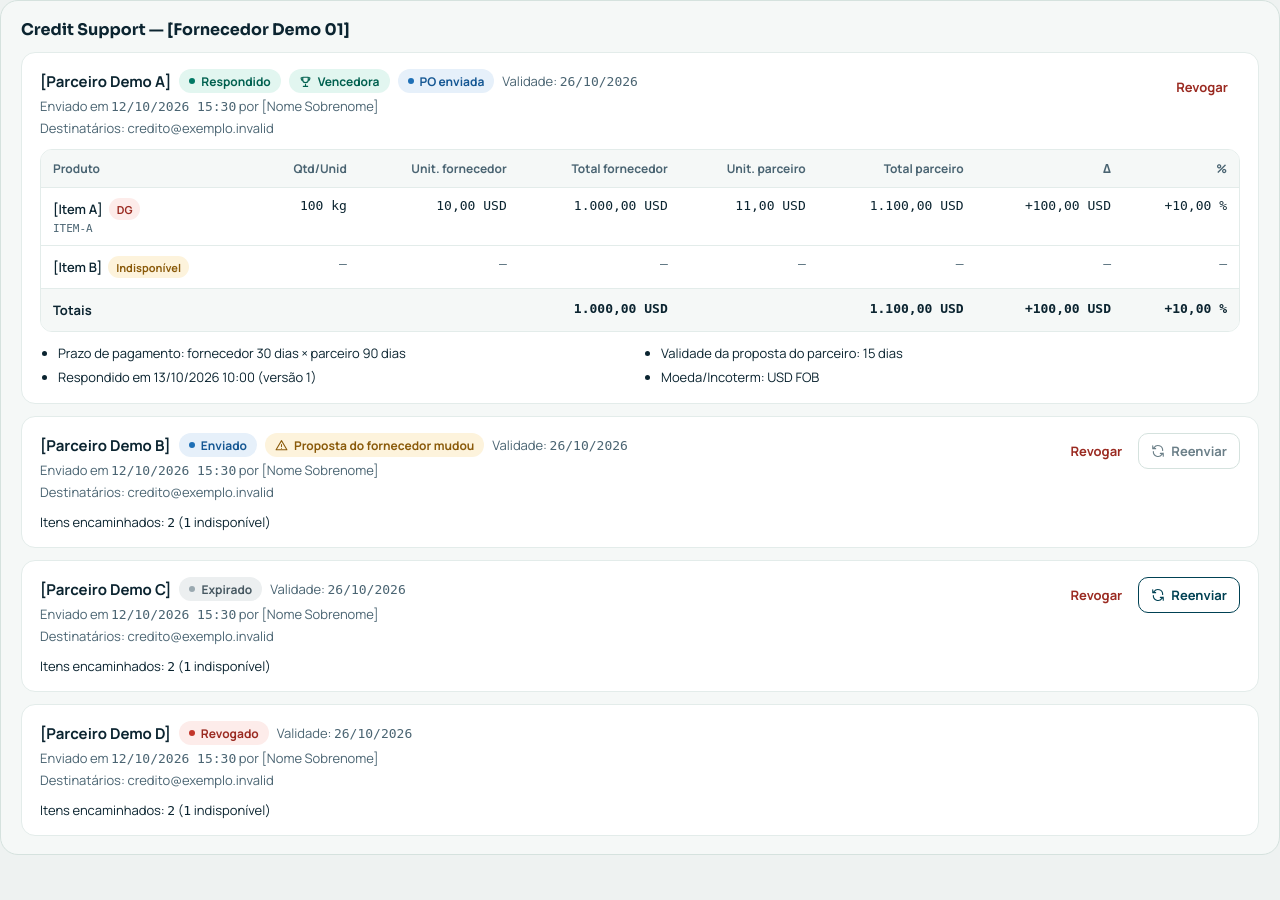
it: Credit Support: visual (Suite COMEX, F7) › painel › "Copiar link" (depois do Reenviar) tem icone; resultado em role=status; nenhum [style] no painel
expect the heading "Credit Support — [Fornecedor Demo 01]" is shown: met, box [21,19,350,40]
Step 1. Click the button "Reenviar" in the row of "Expirado" → (1189, 595), box [1138,577,1240,613]
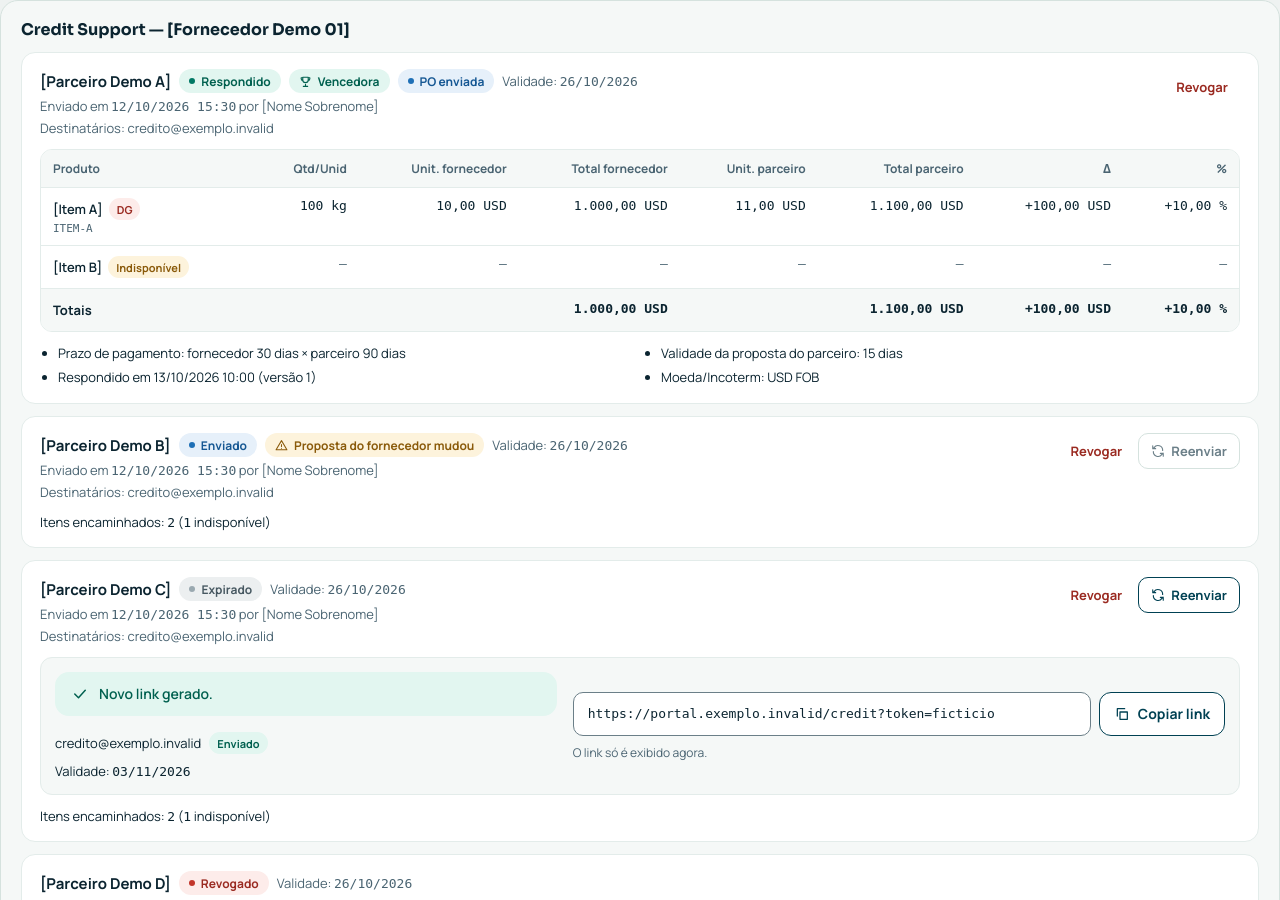
expect the 5th icon is shown: met, box [1114,706,1130,722]
expect the message reads "Novo link gerado.": met, box [99,684,213,703]
